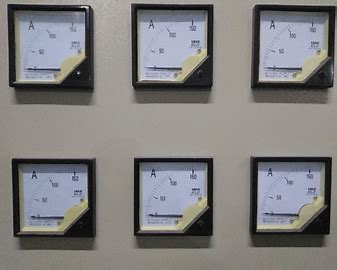pointer: (9, 7, 86, 87), (134, 7, 208, 84), (258, 7, 330, 84), (15, 162, 88, 233), (256, 159, 326, 232), (138, 161, 208, 231)
